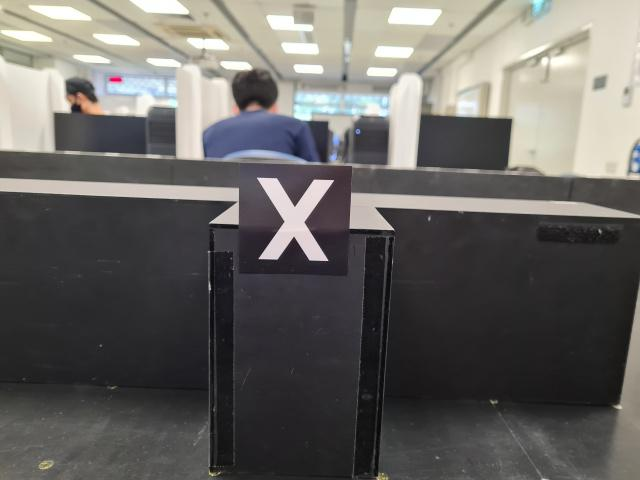x: (239, 161, 351, 276)
